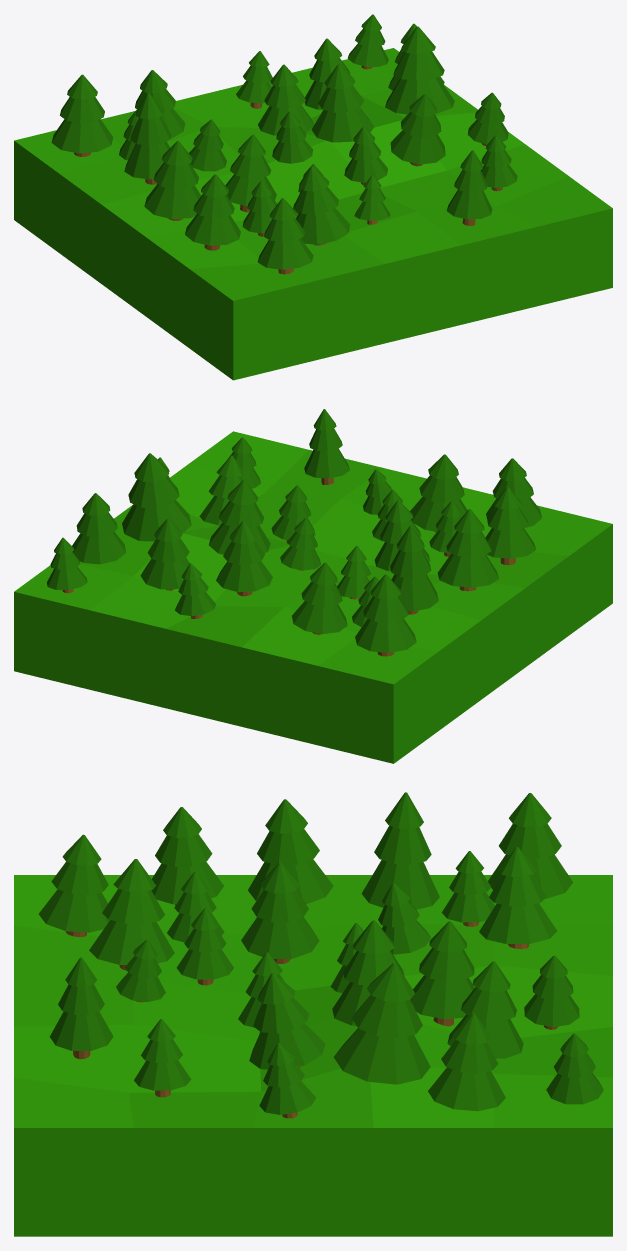
File: forest_002.fbx
3 renders of one model, top to bottom at view 1: azimuth 30°, elevation 25°; view 2: azimuth 150°, elevation 25°; view 3: azimuth 270°, elevation 25°, orthographic. The views are drawn at different scales.
Visible parts, largest first — view 1: Cube.001, Cylinder.001, Cylinder.016, Cylinder.017, Cylinder.002, Cylinder.018, Cylinder.024, Cylinder.005, Cylinder.014, Cylinder.025, Cylinder.006, Cylinder.015 (+12 smaller); view 2: Cube.001, Cylinder.001, Cylinder.016, Cylinder.017, Cylinder.014, Cylinder.006, Cylinder.013, Cylinder.004, Cylinder.024, Cylinder.018, Cylinder.003, Cylinder.002 (+14 smaller); view 3: Cube.001, Cylinder.001, Cylinder.018, Cylinder.014, Cylinder.015, Cylinder.013, Cylinder.004, Cylinder.025, Cylinder.006, Cylinder.017, Cylinder.005, Cylinder.016 (+15 smaller).
Boxes of the visible parts, x1,y1,x2,y2 form: Cube.001: (14, 48, 612, 380); Cylinder.001: (385, 26, 454, 114); Cylinder.016: (51, 74, 113, 156); Cylinder.017: (144, 140, 201, 220); Cylinder.002: (311, 64, 373, 142); Cylinder.018: (294, 166, 349, 245); Cylinder.024: (185, 174, 240, 250); Cylinder.005: (390, 93, 445, 166); Cylinder.014: (124, 92, 171, 184); Cylinder.025: (257, 198, 313, 274); Cylinder.006: (258, 64, 314, 135); Cylinder.015: (225, 134, 276, 212); Cube.001: (14, 431, 612, 763); Cylinder.001: (122, 453, 191, 541); Cylinder.016: (355, 574, 416, 656); Cylinder.017: (437, 509, 498, 591); Cylinder.014: (390, 525, 438, 614); Cylinder.006: (216, 521, 272, 596); Cylinder.013: (292, 562, 347, 634); Cylinder.004: (72, 493, 125, 564); Cylinder.024: (485, 487, 535, 565); Cylinder.018: (410, 454, 467, 532); Cylinder.003: (140, 518, 189, 590); Cylinder.002: (209, 480, 270, 554); Cube.001: (14, 875, 612, 1236); Cylinder.001: (333, 963, 430, 1084); Cylinder.018: (89, 859, 174, 970); Cylinder.014: (361, 792, 439, 909); Cylinder.015: (241, 862, 319, 963); Cylinder.013: (479, 847, 556, 949); Cylinder.004: (428, 1013, 505, 1111); Cylinder.025: (38, 834, 109, 937); Cylinder.006: (410, 921, 474, 1026); Cylinder.017: (248, 799, 333, 904); Cylinder.005: (249, 973, 325, 1069); Cylinder.016: (488, 793, 573, 903).
Bounding box in the file's own units: 200 × 86.89 × 200.
